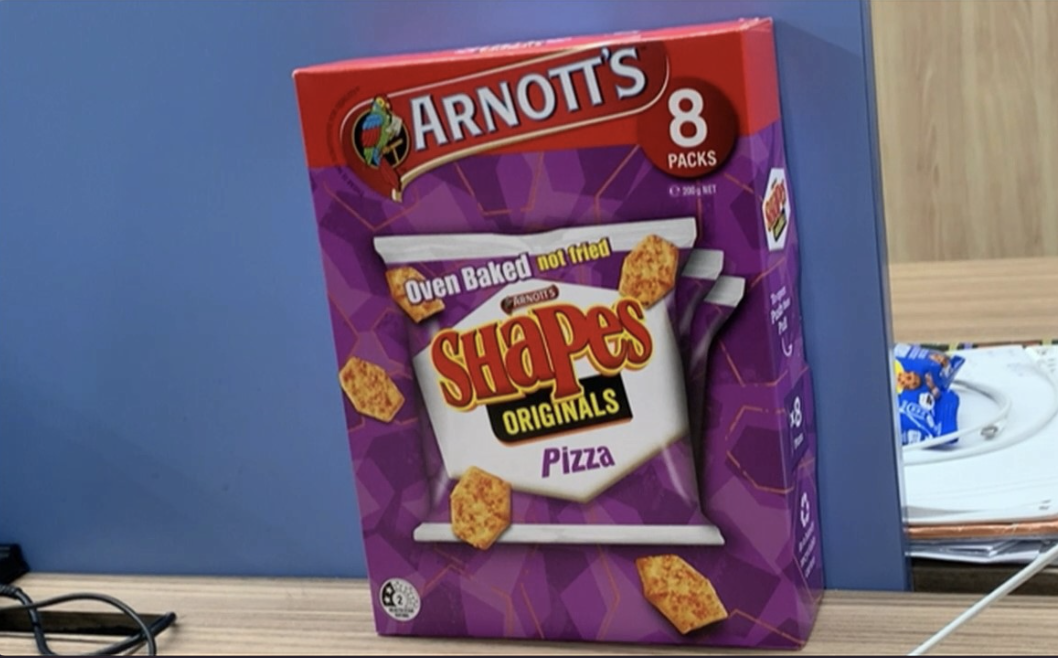crackers_150g: (364, 67, 774, 628)
